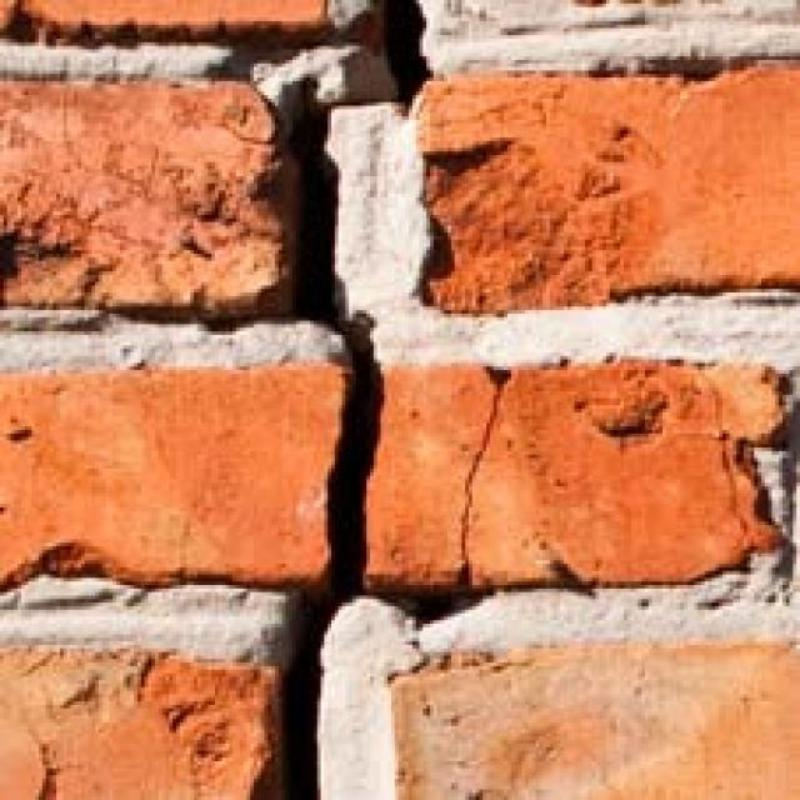crack: (275, 80, 383, 799), (375, 366, 511, 626), (384, 0, 430, 104)
